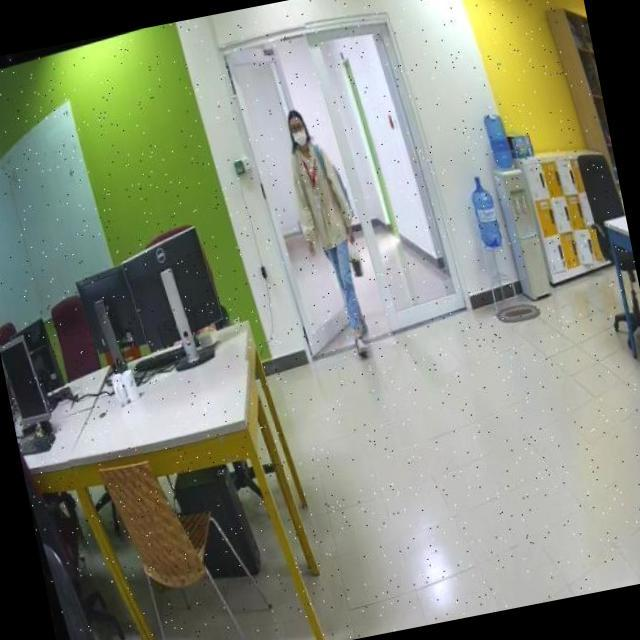person: (270, 99, 391, 364)
